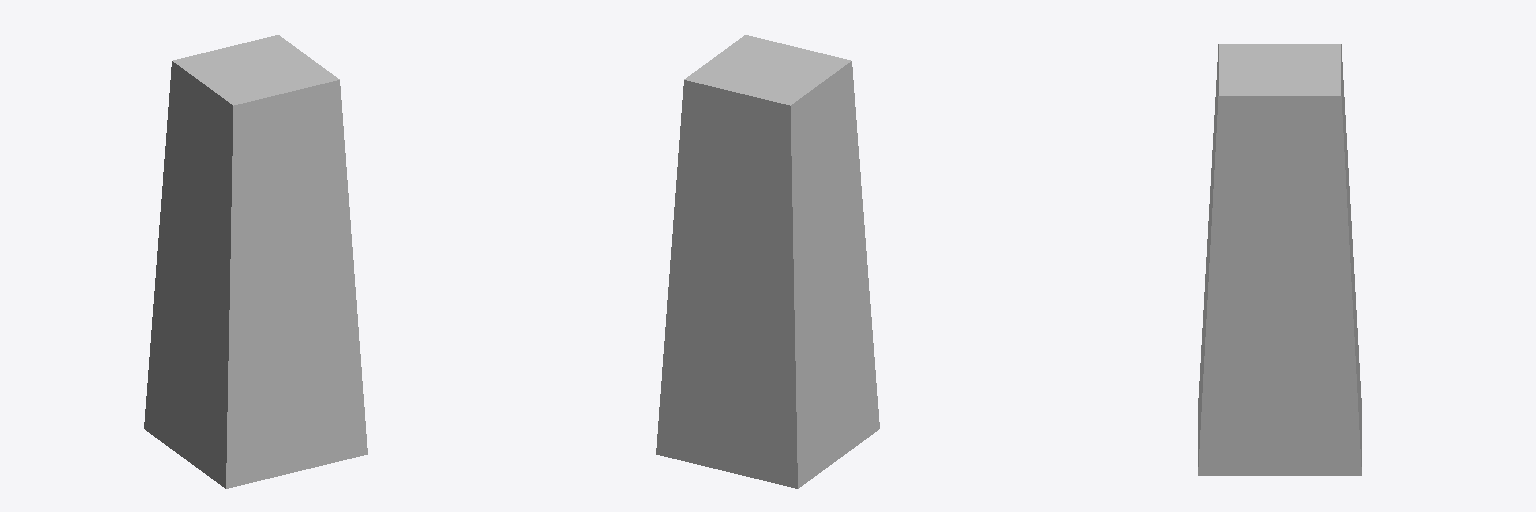
File: sproutTrunk.obj
The picture shows the model from 3 angles: view 1: azimuth 30°, elevation 25°; view 2: azimuth 150°, elevation 25°; view 3: azimuth 270°, elevation 25°; orthographic projection.
Visible parts, largest first — view 1: cylinder; view 2: cylinder; view 3: cylinder.
Boxes of the visible parts, x1=… form: cylinder: x1=144, y1=35, x2=367, y2=488; cylinder: x1=656, y1=35, x2=879, y2=488; cylinder: x1=1198, y1=44, x2=1361, y2=475.
Bounding box in the file's own units: 0.125 × 0.3125 × 0.125.